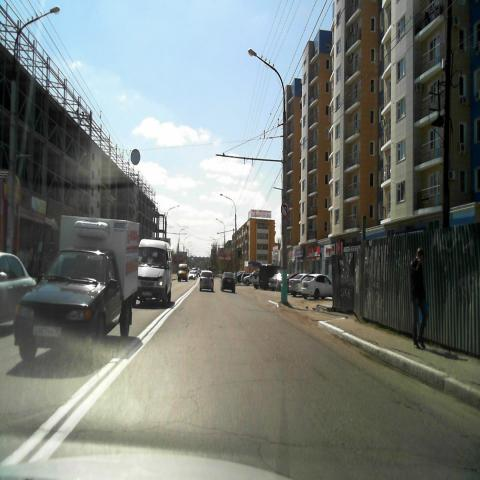3_18_2: (281, 202, 289, 216)
